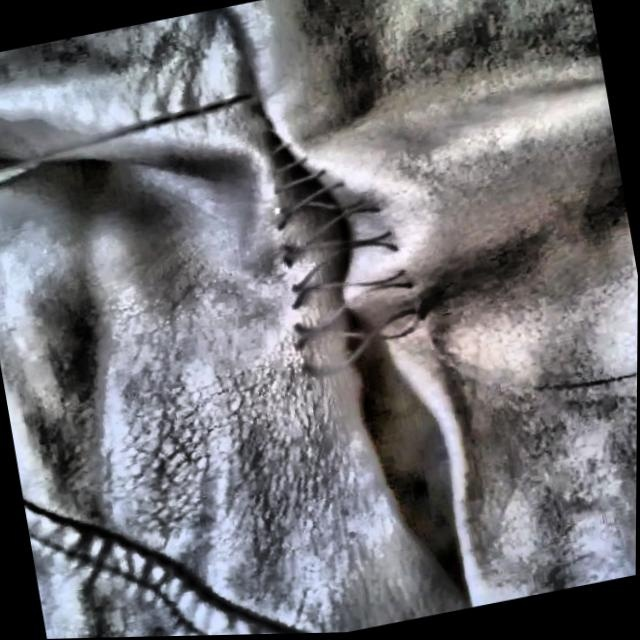Stitch: (207, 64, 460, 418)
